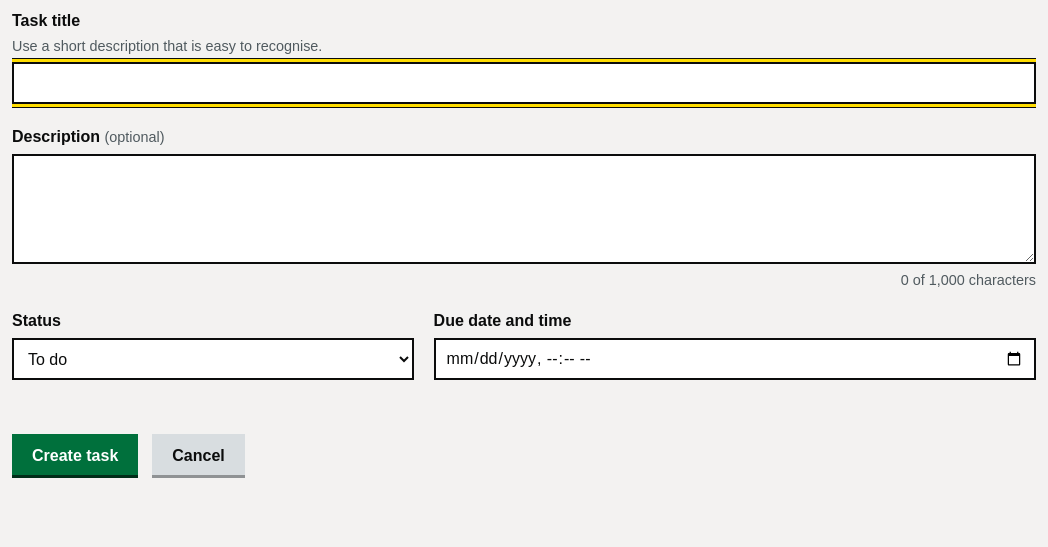
Test: TaskForm › shows validation errors instead of submitting incomplete data
Click the button "Create task" at (75, 456), box top-left (12, 434), bottom-right (138, 478)
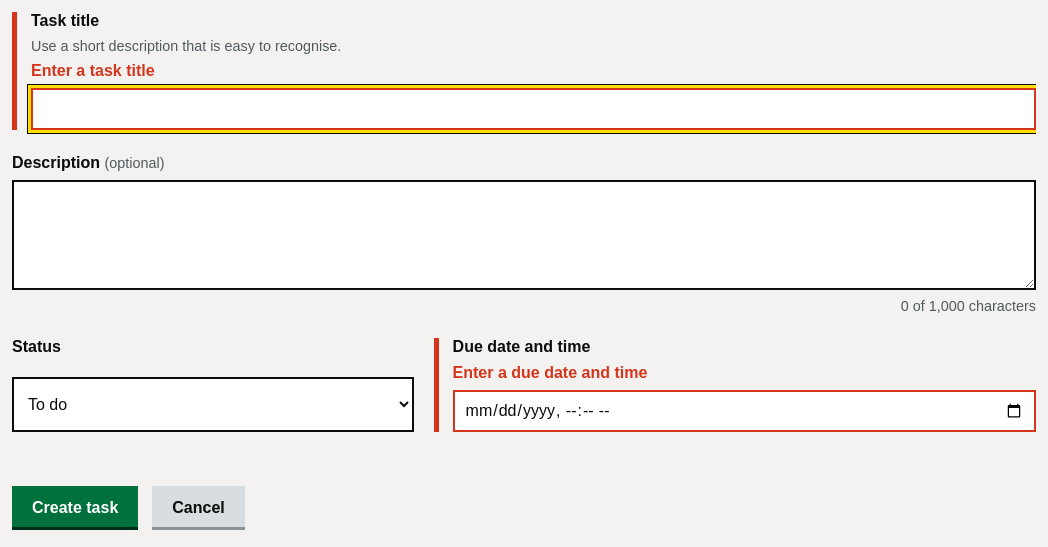
Now the text "Enter a task title" is shown, box top-left (31, 62), bottom-right (155, 79)
Now the text "Enter a due date and time" is shown, box top-left (453, 364), bottom-right (647, 381)
